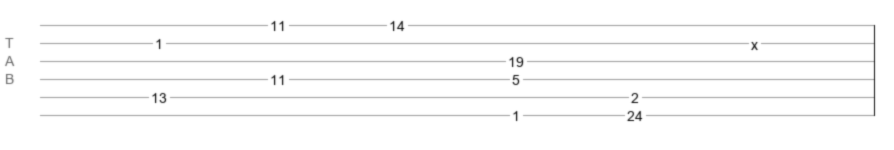1: (155, 36, 163, 46), (512, 108, 520, 118)
11: (270, 72, 286, 82), (270, 18, 286, 28)
13: (151, 90, 167, 100)
14: (389, 18, 405, 28)
19: (508, 54, 524, 64)
2: (631, 90, 639, 100)
24: (627, 108, 643, 118)
5: (512, 72, 520, 82)
x: (751, 37, 758, 45)
